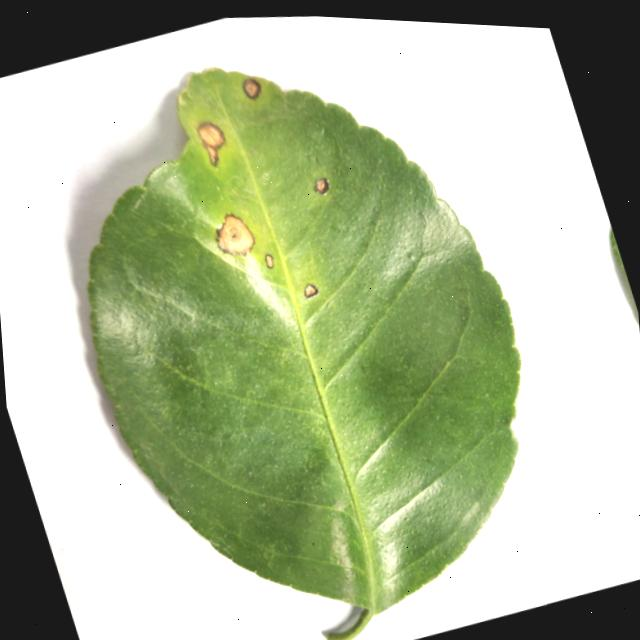antracnose: (88, 68, 519, 640), (216, 214, 253, 253), (196, 122, 223, 165), (241, 78, 260, 99), (313, 178, 328, 194), (303, 284, 317, 298), (264, 255, 272, 268)
